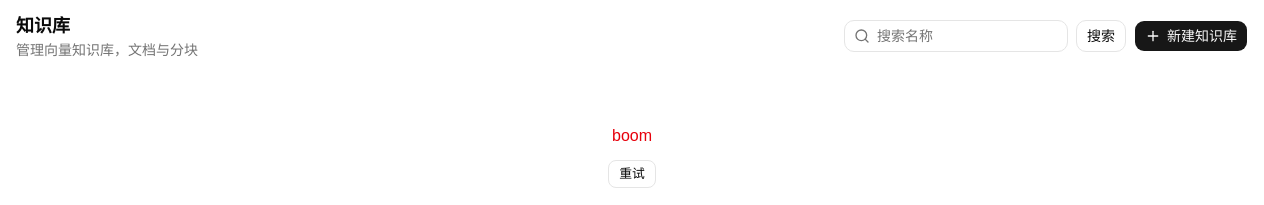
Scenario: KnowledgeListPage › 加载失败显示错误态并可重试
Check: the message shows "boom", box x1=612 y1=127 x2=652 y2=144
Click the button "重试".
click(632, 174)  # box x1=608 y1=160 x2=656 y2=188
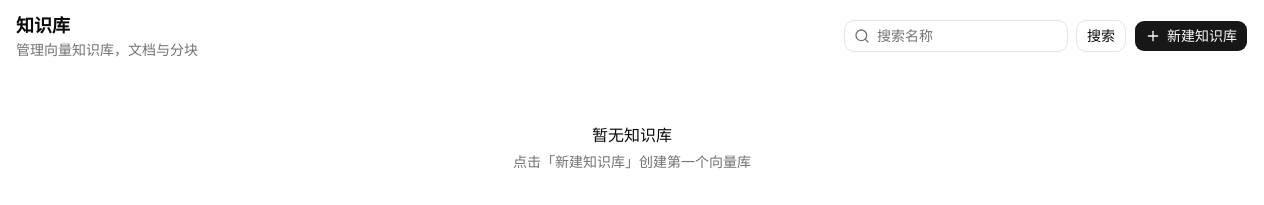
Check: the text "暂无知识库" is shown, box x1=592 y1=124 x2=672 y2=148
